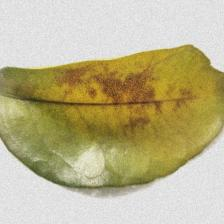black spot: (68, 70, 188, 134)
